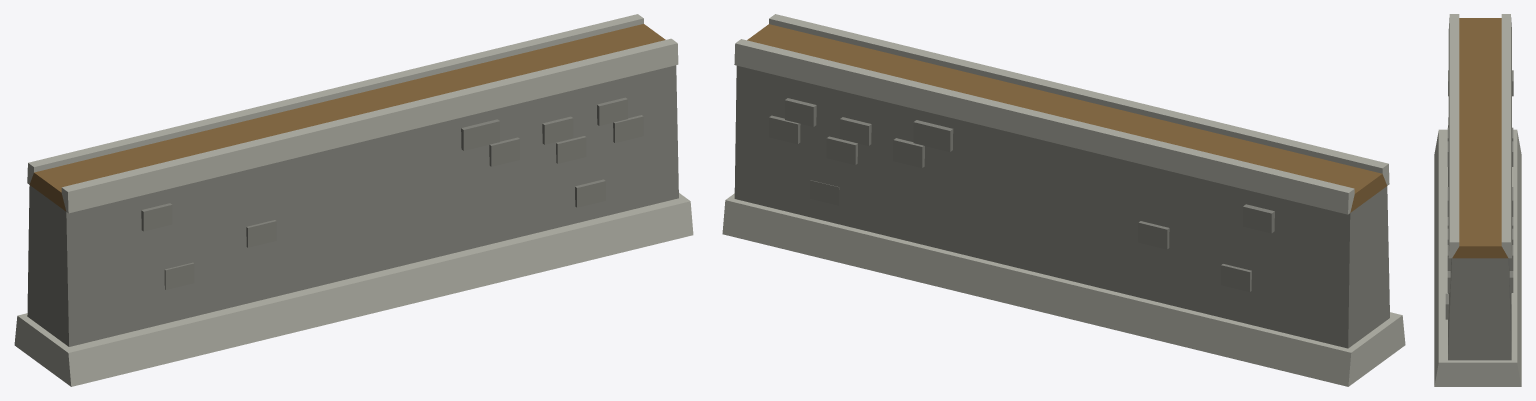
File: Stone Wall.glb
3 renders of one model, left to right at view 1: azimuth 30°, elevation 25°; view 2: azimuth 150°, elevation 25°; view 3: azimuth 270°, elevation 25°, orthographic. The views are drawn at different scales.
Visible parts, largest first — view 1: Stone Wall; view 2: Stone Wall; view 3: Stone Wall.
Part boxes in pixels (<box>): Stone Wall: <box>14,14,693,386</box>; Stone Wall: <box>722,14,1405,386</box>; Stone Wall: <box>1434,14,1521,386</box>.
Size of the model in its own units: 1.56 by 0.4459 by 0.2467.
